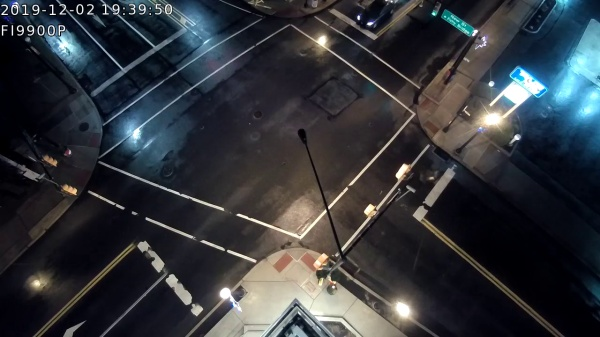car: (356, 1, 396, 37)
